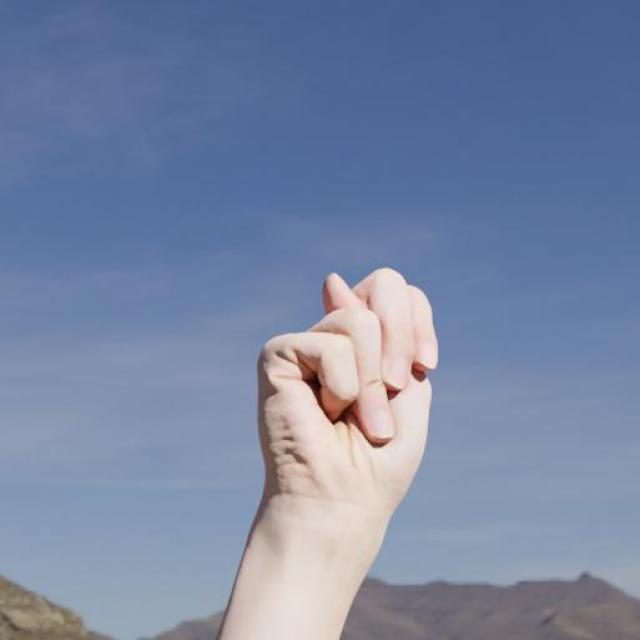N: (251, 268, 445, 512)
